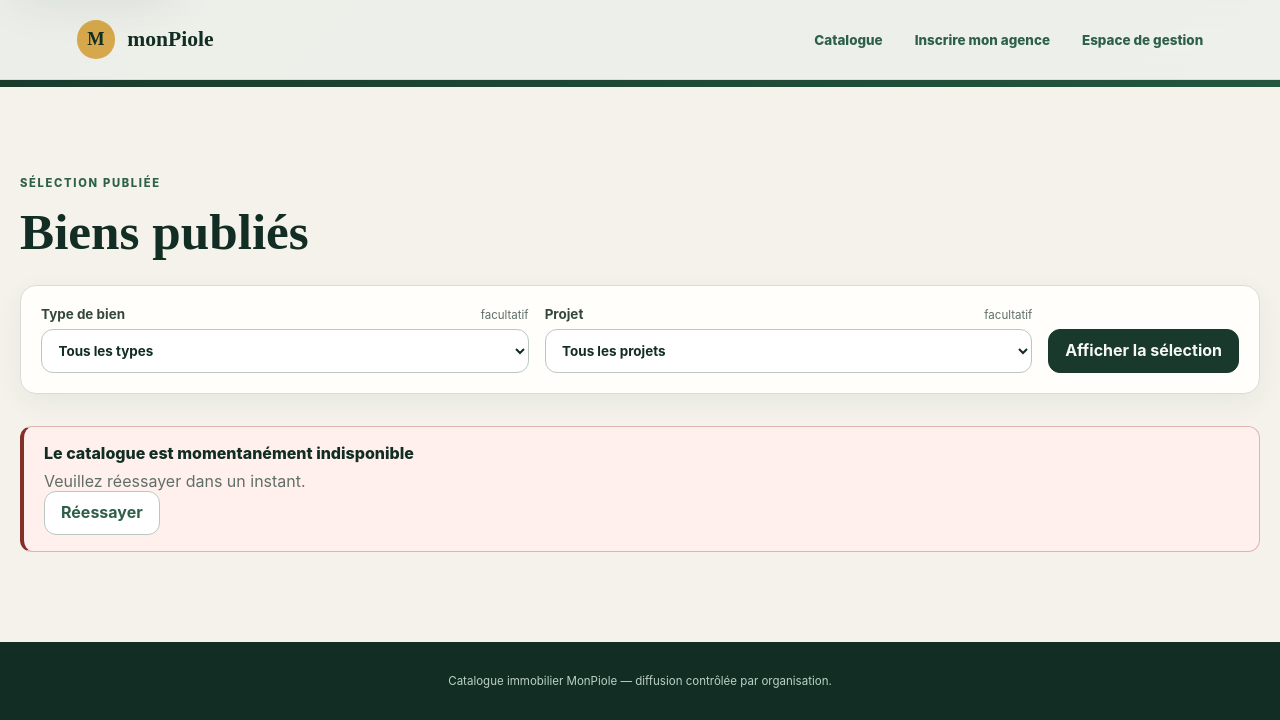
Scenario: public Property catalog Web journey › shows a safe error and retries
This screenshot has width=1280, height=720.
(page scrolled)
Check: the heading "Le catalogue est momentanément indisponible" is shown, box 44,443 -> 414,463
Step 1. Click the button "Réessayer" → click(102, 513), box 44,491 -> 160,535
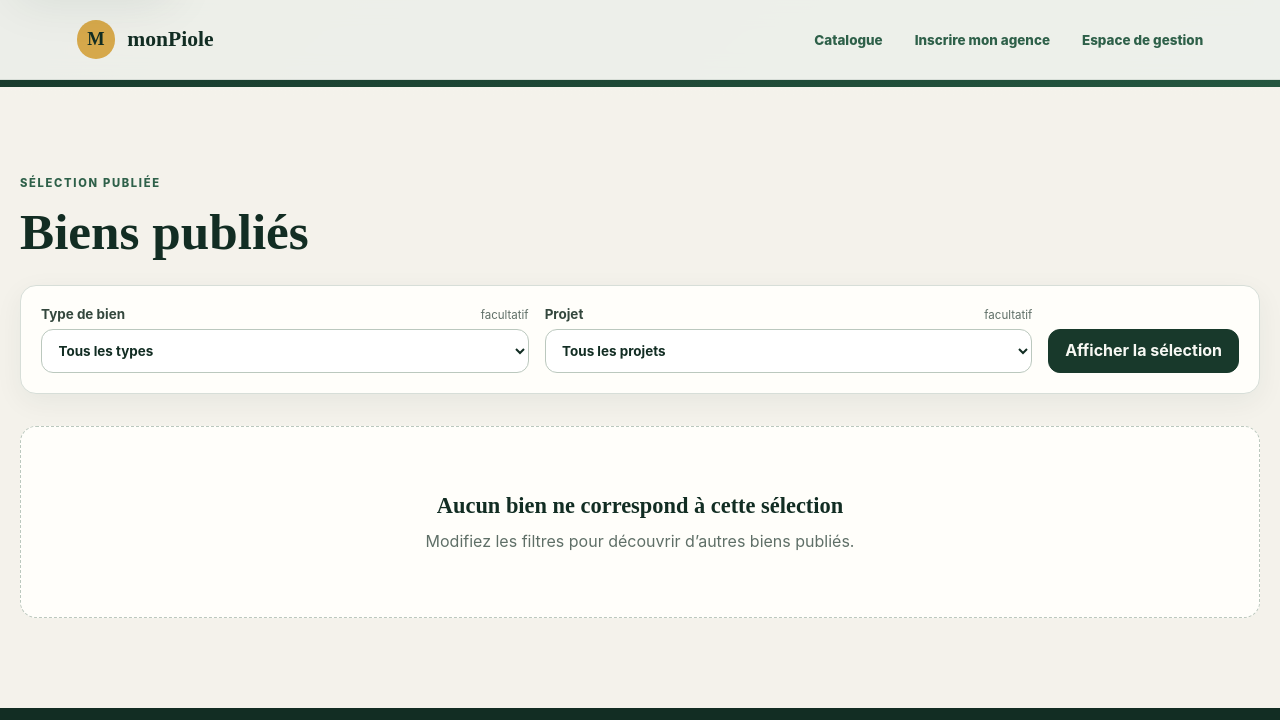
Check: the heading "Aucun bien ne correspond à cette sélection" is shown, box 437,493 -> 843,519
